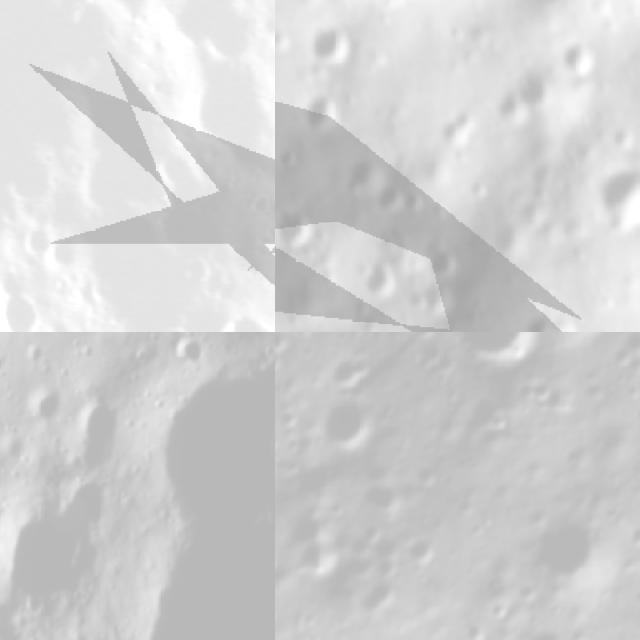crater: (509, 491, 627, 610), (168, 63, 272, 168), (301, 380, 395, 468), (432, 332, 564, 389), (151, 0, 267, 62), (590, 161, 640, 242), (301, 82, 362, 137), (305, 15, 363, 72), (346, 146, 400, 204), (436, 100, 490, 156), (510, 60, 559, 117), (413, 275, 464, 329), (275, 201, 320, 258), (401, 525, 450, 576), (359, 251, 403, 306), (0, 287, 53, 332), (504, 612, 586, 640), (421, 234, 468, 282), (492, 214, 534, 266), (515, 299, 580, 332), (374, 173, 418, 220), (519, 368, 565, 411), (564, 34, 602, 82), (14, 224, 58, 262), (517, 193, 557, 230), (210, 311, 275, 332), (24, 382, 55, 422), (167, 332, 202, 366), (275, 140, 311, 172), (355, 301, 389, 332), (523, 157, 557, 188), (465, 175, 497, 207), (627, 542, 640, 619), (623, 357, 640, 414), (351, 292, 382, 318), (448, 21, 474, 49), (275, 27, 296, 58), (0, 346, 10, 374)
